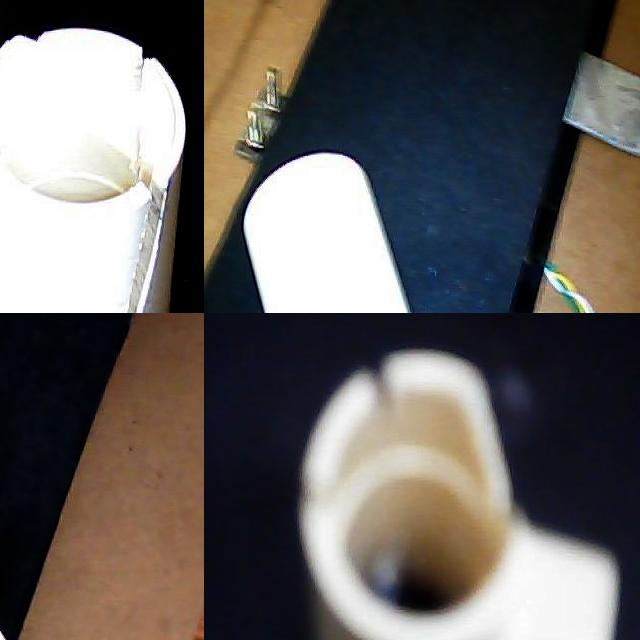Defective: (458, 364, 578, 537), (25, 26, 165, 81), (120, 156, 169, 313), (362, 355, 402, 400)
T Joint: (0, 27, 187, 313), (240, 150, 414, 313)
